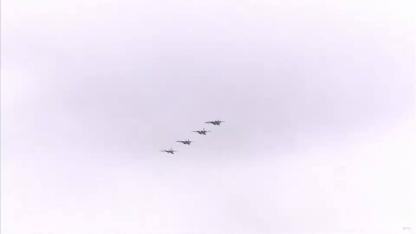SR71: (203, 117, 224, 125), (157, 147, 177, 154), (175, 138, 195, 144), (190, 128, 210, 134)
